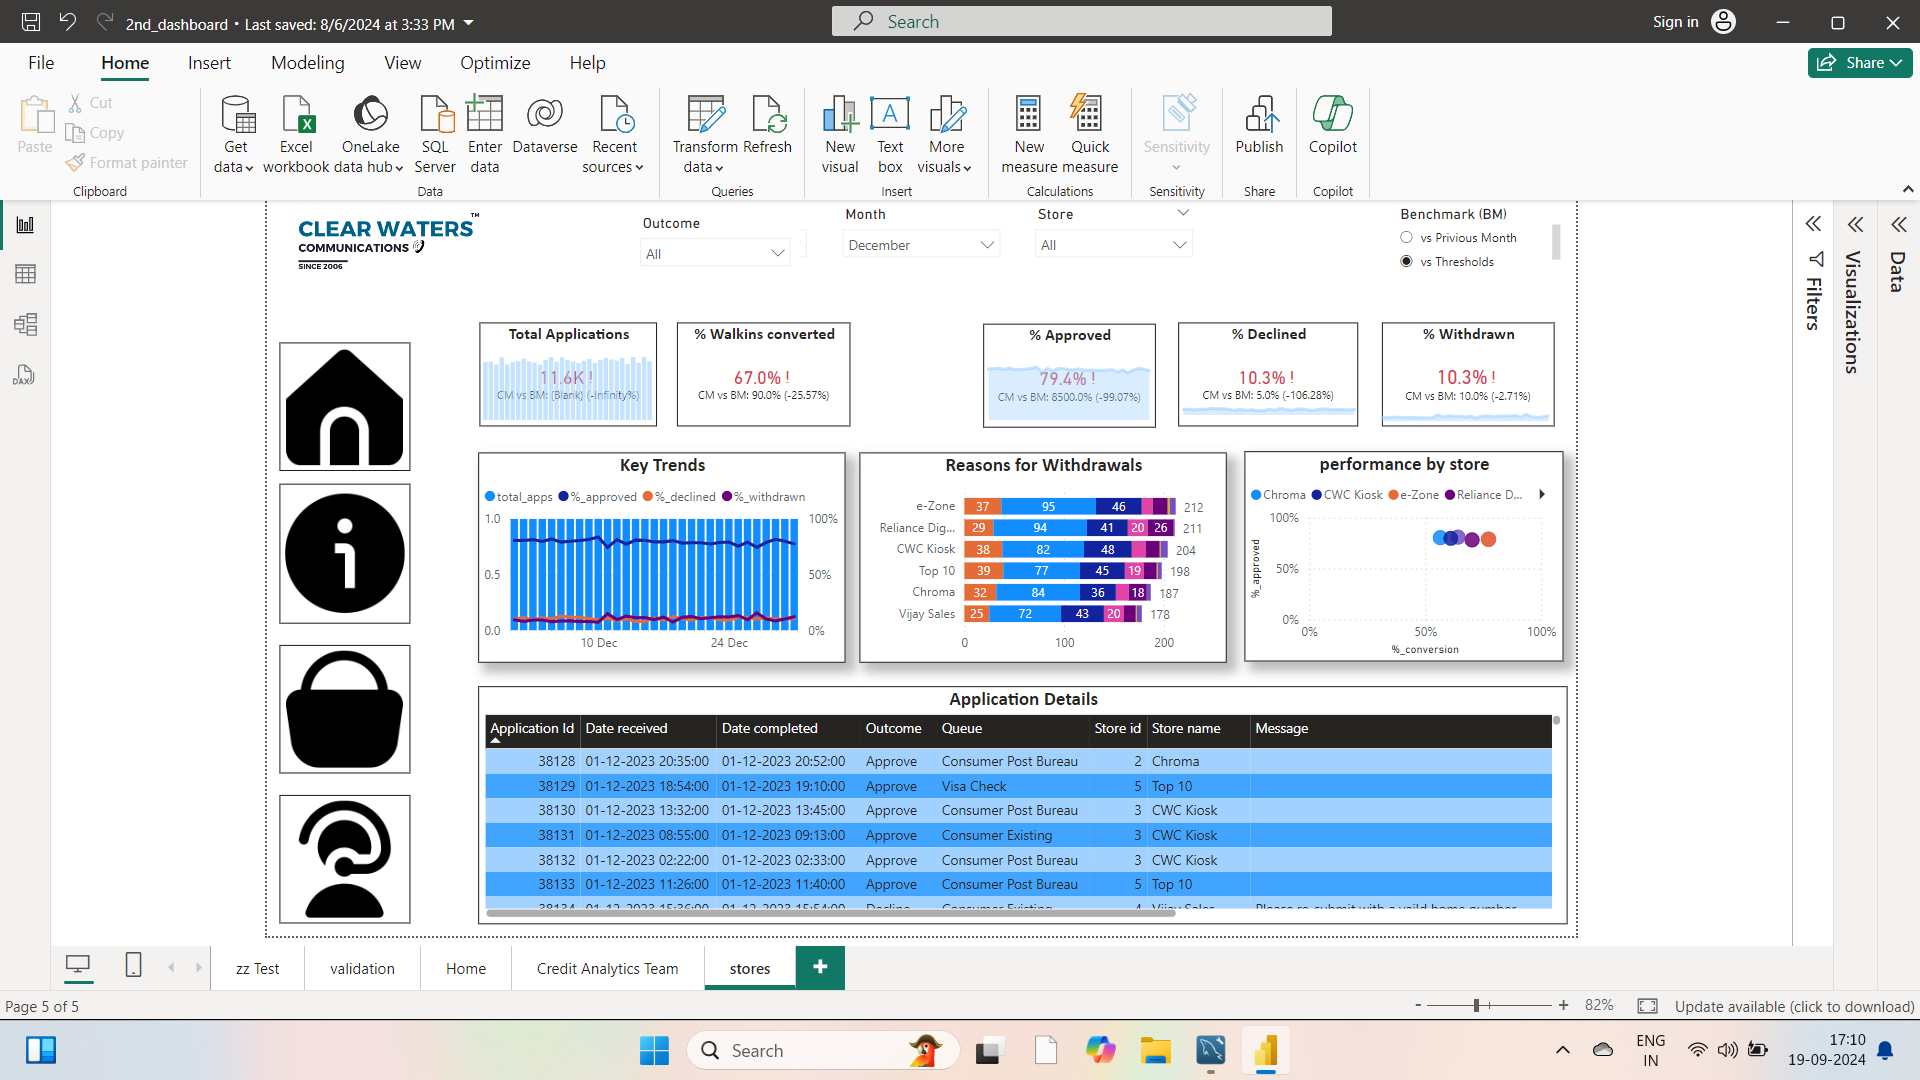

Layout of this report page (visuals, bound fields, positions):
{"tool":"powerbi","page":{"name":"Home","canvas":[1280,720],"ordinal":2},"visuals":[{"type":"group","id":"g1","title":"Group 6","box":[96.9,10,1090.2,686.9],"z":0},{"type":"group","id":"g2","title":"Group 4","box":[96.9,10,1090.2,548.1],"z":0,"group":"g1"},{"type":"textbox","box":[109.6,10,1077.3,71.6],"z":0,"group":"g2"},{"type":"slicer","fields":{"Values":["dim_date.updated_month"]},"box":[814.3,74.1,153.4,55.2],"z":0,"group":"g6"},{"type":"textbox","box":[98.1,325.2,178.6,33.8],"z":0,"group":"g5"},{"type":"image","box":[96.9,468.5,262.4,89.6],"z":0,"group":"g3"},{"type":"textbox","box":[370.4,562,265.1,127.2],"z":0,"group":"g4"},{"type":"image","box":[0,9.9,267.8,129.9],"z":1000},{"type":"slicer","fields":{"Values":["dim_date.updated_year"]},"box":[660.8,73.6,142.5,57],"z":1000,"group":"g6"},{"type":"shape","box":[115.5,139.8,1071.6,13.4],"z":1000,"group":"g2"},{"type":"textbox","box":[995.2,268.8,179.1,50.1],"z":1000,"group":"g1"},{"type":"clusteredColumnChart","fields":{"Category":["dim_date.Date"],"Y":["key_measures.total_apps_actioned"]},"box":[98.1,354.5,178.6,67.7],"z":1000,"group":"g5"},{"type":"image","box":[648.3,468.6,262.4,89.6],"z":1000,"group":"g3"},{"type":"textbox","box":[649.3,565.2,261,131.7],"z":1000,"group":"g4"},{"type":"shape","box":[98.2,246.8,1090.2,14],"z":2000},{"type":"kpi","fields":{"Indicator":["key_measures.total_apps_actioned"],"Goal":["key_measures.%_apps_actioned_vs_benchmark"],"TrendLine":["dim_date.updated_month"]},"box":[98.1,359.9,178.6,96.9],"z":2000,"group":"g5"},{"type":"group","id":"g3","title":"Group 1","box":[96.9,468.5,1090.2,89.6],"z":2000,"group":"g2"},{"type":"group","id":"g4","title":"Group 5","box":[99.2,562,1087.9,134.9],"z":2000,"group":"g1"},{"type":"textbox","box":[925,565.2,262.1,131.7],"z":2000,"group":"g4"},{"type":"textbox","box":[110.6,171.2,1076.6,104.8],"z":3000,"group":"g2"},{"type":"textbox","box":[283.1,327.9,176.5,26.5],"z":3000,"group":"g5"},{"type":"textbox","box":[99.2,565.2,260.6,131.7],"z":3000,"group":"g4"},{"type":"textbox","box":[97,269.7,1089.9,42.1],"z":4000,"group":"g2"},{"type":"kpi","fields":{"TrendLine":["dim_date.updated_month"],"Indicator":["key_measures.%_apps_within_sla"],"Goal":["key_measures.%_apps_within_sla_previous_vs_benchmark"]},"box":[283.3,359.5,175.4,96.1],"z":4000,"group":"g5"},{"type":"image","box":[924.7,468.6,262.4,89.6],"z":4000,"group":"g3"},{"type":"group","id":"g5","title":"Group 3","box":[98.1,325.2,1088,132.5],"z":5000,"group":"g2"},{"type":"areaChart","fields":{"Category":["dim_date.Date"],"Y":["key_measures.%_apps_within_sla"]},"box":[281,356.7,178.3,67.9],"z":5000,"group":"g5"},{"type":"image","box":[371.9,468.6,262.4,89.6],"z":5000,"group":"g3"},{"type":"group","id":"g6","title":"Group 2","box":[660.8,73.6,517.8,68.1],"z":6000,"group":"g2"},{"type":"textbox","box":[468.8,327.7,163.9,26],"z":6000,"group":"g5"},{"type":"kpi","fields":{"TrendLine":["dim_date.updated_month"],"Indicator":["key_measures.%_conversion"],"Goal":["key_measures.%_conversion_vs_benchmark"]},"box":[468.8,359.1,163,97.6],"z":7000,"group":"g5"},{"type":"textbox","box":[666.7,328.8,166.9,27.4],"z":8000,"group":"g5"},{"type":"textbox","box":[841.3,328.8,169,27.4],"z":9000,"group":"g5"},{"type":"textbox","box":[1017.9,328.8,168,27.4],"z":10000,"group":"g5"},{"type":"areaChart","fields":{"Category":["dim_date.Date"],"Y":["key_measures.%_apps_approved"]},"box":[661.3,352.8,171.9,69.9],"z":11000,"group":"g5"},{"type":"kpi","fields":{"TrendLine":["dim_date.updated_month"],"Indicator":["key_measures.%_apps_approved"],"Goal":["key_measures.%_apps_approved_vs_benchmark"]},"box":[666.7,360.8,166.9,96.9],"z":12000,"group":"g5"},{"type":"areaChart","fields":{"Category":["dim_date.Date"],"Y":["key_measures.%_apps_declined"]},"box":[843.1,359.1,165.7,64.5],"z":13000,"group":"g5"},{"type":"kpi","fields":{"TrendLine":["dim_date.updated_month"],"Indicator":["key_measures.%_apps_declined"],"Goal":["key_measures.%_apps_declined_vs_benchmark"]},"box":[843.1,361.7,167.5,94.9],"z":14000,"group":"g5"},{"type":"areaChart","fields":{"Category":["dim_date.Date"],"Y":["key_measures.%_apps_withdraw"]},"box":[1017.9,357.1,168,67.7],"z":15000,"group":"g5"},{"type":"slicer","fields":{"Values":["flt_benchmark_type.benchmark_type"]},"box":[992.5,74.5,186.1,67.1],"z":16000,"group":"g6"},{"type":"kpi","fields":{"TrendLine":["dim_date.updated_month"],"Indicator":["key_measures.%_apps_withdraw"],"Goal":["key_measures.%_apps_withdraw_vs_benchmark"]},"box":[1018.6,362.6,167.5,94],"z":16000,"group":"g5"}]}

Visuals, with their boxes on the page's 1280x720 design canvas (x1, y1, x2, y2). These are canvas units, not pixel positions in the 1920x1080 screenshot, which may show the page scaled, cropped or inside an application window:
"Group 6" group: bbox(97, 10, 1187, 697)
"Group 4" group: bbox(97, 10, 1187, 558)
textbox: bbox(110, 10, 1187, 82)
slicer - dim_date.updated_month: bbox(814, 74, 968, 129)
textbox: bbox(98, 325, 277, 359)
image: bbox(97, 468, 359, 558)
textbox: bbox(370, 562, 636, 689)
image: bbox(0, 10, 268, 140)
slicer - dim_date.updated_year: bbox(661, 74, 803, 131)
shape: bbox(116, 140, 1187, 153)
textbox: bbox(995, 269, 1174, 319)
clusteredColumnChart - dim_date.Date x key_measures.total_apps_actioned: bbox(98, 354, 277, 422)
image: bbox(648, 469, 911, 558)
textbox: bbox(649, 565, 910, 697)
shape: bbox(98, 247, 1188, 261)
kpi - key_measures.total_apps_actioned x key_measures.%_apps_actioned_vs_benchmark: bbox(98, 360, 277, 457)
"Group 1" group: bbox(97, 468, 1187, 558)
"Group 5" group: bbox(99, 562, 1187, 697)
textbox: bbox(925, 565, 1187, 697)
textbox: bbox(111, 171, 1187, 276)
textbox: bbox(283, 328, 460, 354)
textbox: bbox(99, 565, 360, 697)
textbox: bbox(97, 270, 1187, 312)
kpi - dim_date.updated_month x key_measures.%_apps_within_sla: bbox(283, 360, 459, 456)
image: bbox(925, 469, 1187, 558)
"Group 3" group: bbox(98, 325, 1186, 458)
areaChart - dim_date.Date x key_measures.%_apps_within_sla: bbox(281, 357, 459, 425)
image: bbox(372, 469, 634, 558)
"Group 2" group: bbox(661, 74, 1179, 142)
textbox: bbox(469, 328, 633, 354)
kpi - dim_date.updated_month x key_measures.%_conversion: bbox(469, 359, 632, 457)
textbox: bbox(667, 329, 834, 356)
textbox: bbox(841, 329, 1010, 356)
textbox: bbox(1018, 329, 1186, 356)
areaChart - dim_date.Date x key_measures.%_apps_approved: bbox(661, 353, 833, 423)
kpi - dim_date.updated_month x key_measures.%_apps_approved: bbox(667, 361, 834, 458)
areaChart - dim_date.Date x key_measures.%_apps_declined: bbox(843, 359, 1009, 424)
kpi - dim_date.updated_month x key_measures.%_apps_declined: bbox(843, 362, 1011, 457)
areaChart - dim_date.Date x key_measures.%_apps_withdraw: bbox(1018, 357, 1186, 425)
slicer - flt_benchmark_type.benchmark_type: bbox(992, 74, 1179, 142)
kpi - dim_date.updated_month x key_measures.%_apps_withdraw: bbox(1019, 363, 1186, 457)
